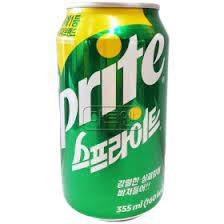sprite: (53, 1, 174, 223)
